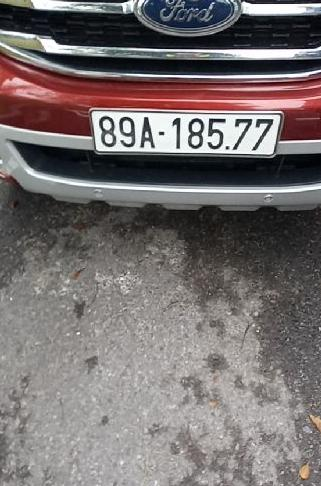Plate-iWeP: (89, 107, 284, 158)
